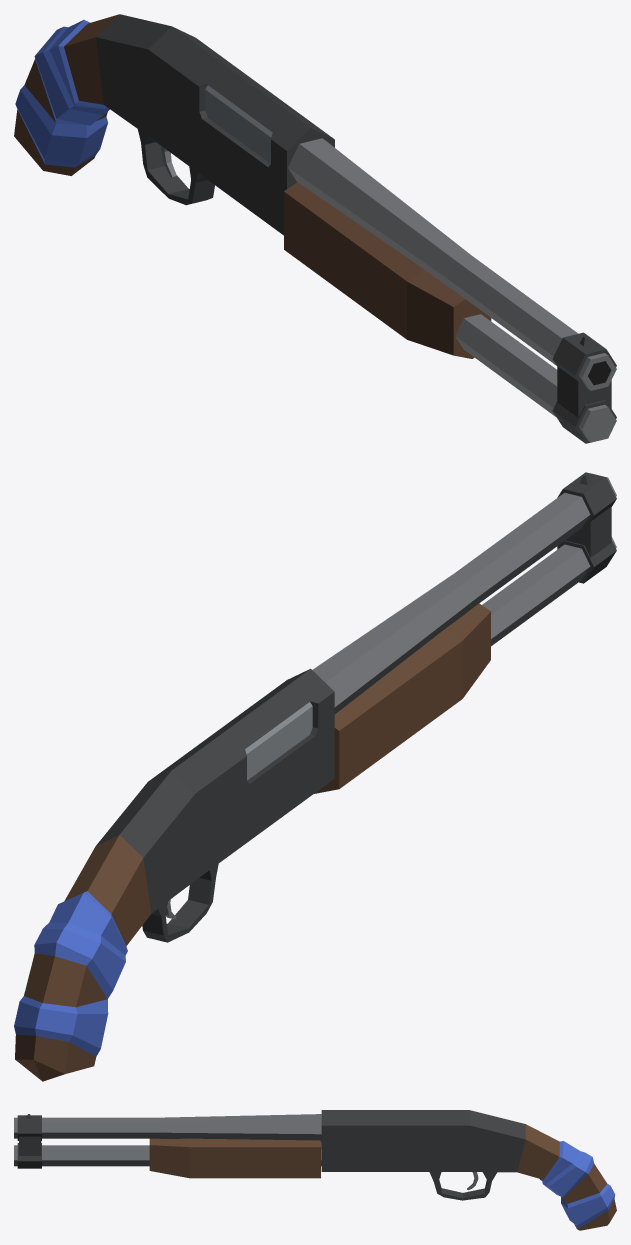
Rendered from SM_Wep_Shotgun_01.fbx.
3 views of the same model, one above another, from view 1: azimuth 30°, elevation 25°; view 2: azimuth 150°, elevation 25°; view 3: azimuth 270°, elevation 25° (orthographic). The views are drawn at different scales.
Parts seen in each view (by area): view 1: SM_Wep_Shotgun_01; view 2: SM_Wep_Shotgun_01; view 3: SM_Wep_Shotgun_01.
Part boxes in pixels (<box>): SM_Wep_Shotgun_01: <box>14,14,616,443</box>; SM_Wep_Shotgun_01: <box>14,472,616,1081</box>; SM_Wep_Shotgun_01: <box>14,1110,616,1230</box>.
Bounding box in the file's own units: 3.37 × 12.41 × 56.95.
